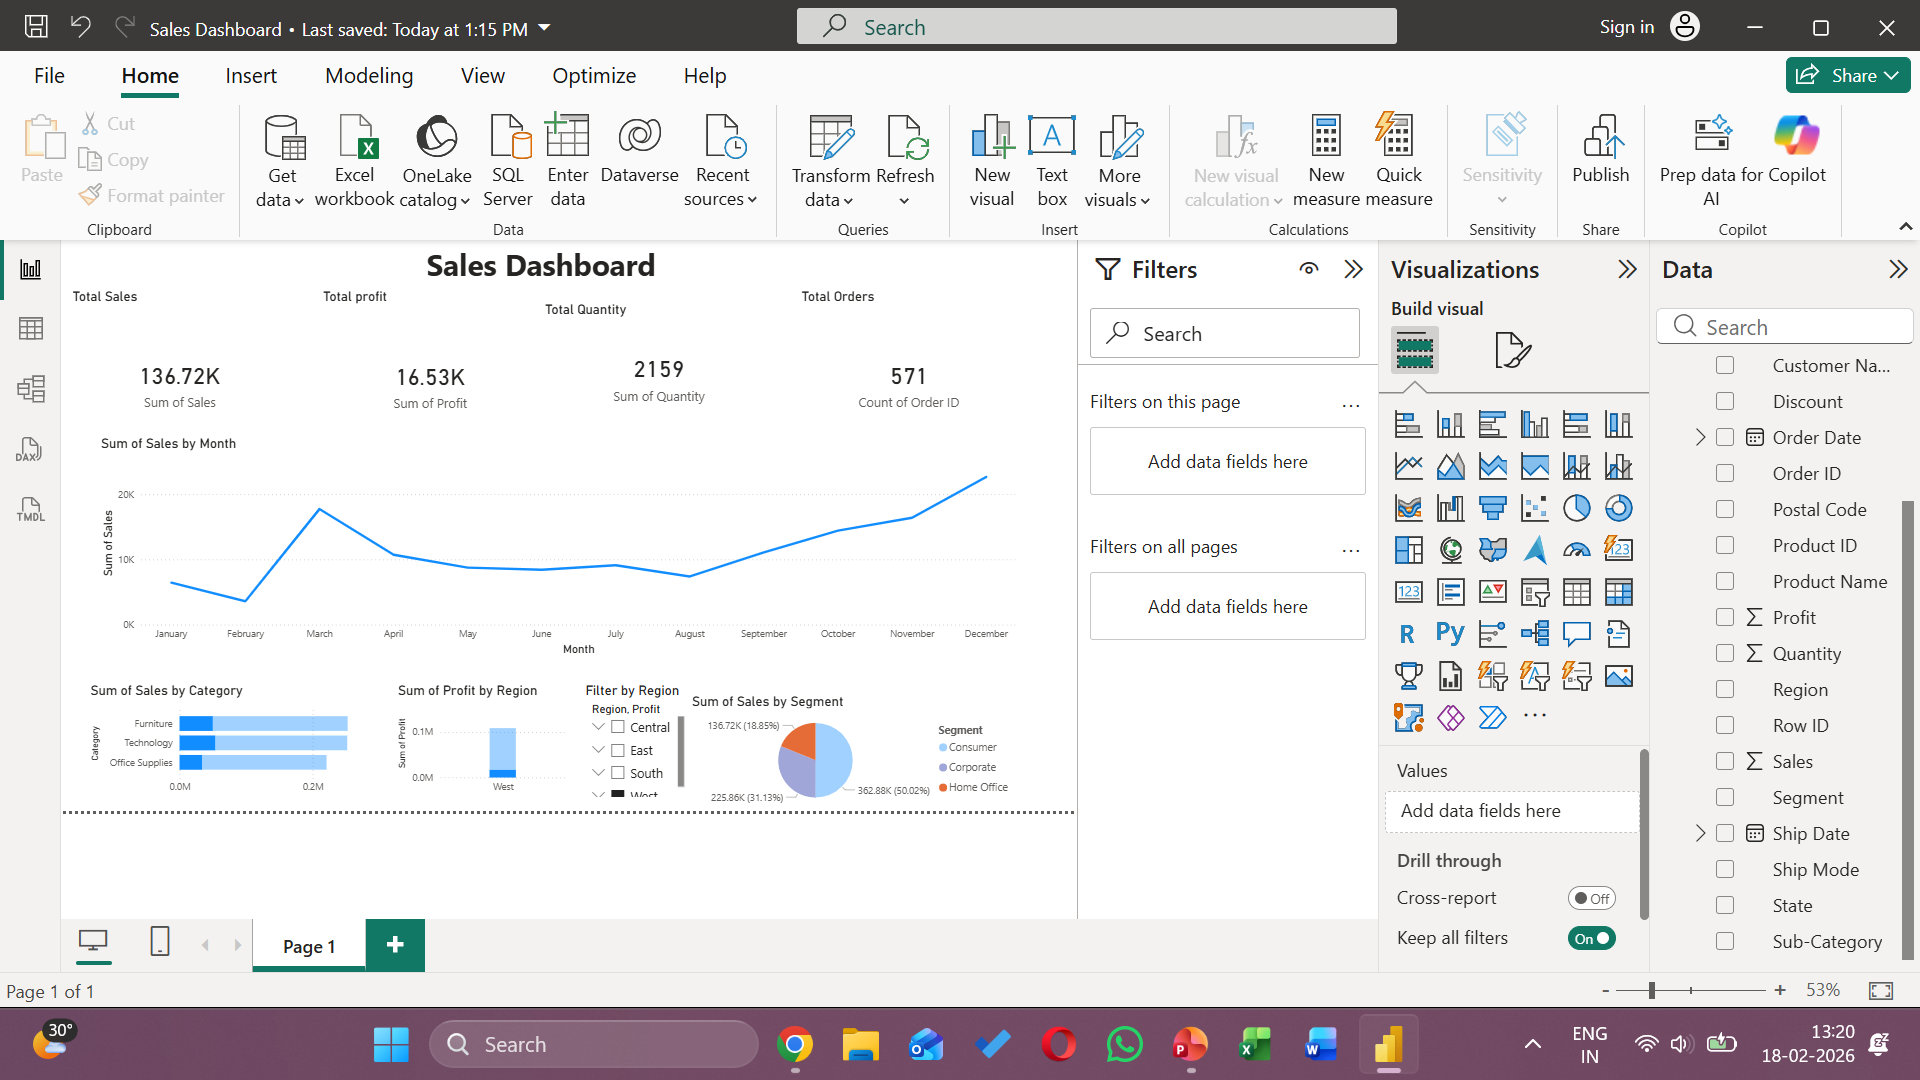

This screenshot's page, from the dashboard's own definition file:
{"tool":"powerbi","page":{"name":"Page 1","canvas":[1280,720],"ordinal":0},"visuals":[{"type":"card","title":"Total Sales ","fields":{"Values":["Sum(Sample - Superstore.Sales)"]},"box":[9.4,60.5,279.7,219.2],"z":0},{"type":"card","title":"Total profit ","fields":{"Values":["Sum(Sample - Superstore.Profit)"]},"box":[325,60.5,279.7,221.1],"z":1000},{"type":"card","title":"Total Quantity","fields":{"Values":["Sum(Sample - Superstore.Quantity)"]},"box":[604.7,77.5,296.7,168.2],"z":2000},{"type":"card","title":"Total Orders","fields":{"Values":["CountNonNull(Sample - Superstore.Order ID)"]},"box":[927.9,60.5,279.7,219.2],"z":3000},{"type":"lineChart","fields":{"Category":["Sample - Superstore.Order Date.Variation.Date Hierarchy.Year","Sample - Superstore.Order Date.Variation.Date Hierarchy.Month"],"Y":["Sum(Sample - Superstore.Sales)"]},"box":[45.4,245.7,1162.2,281.6],"z":4000},{"type":"clusteredBarChart","fields":{"Category":["Sample - Superstore.Category"],"Y":["Sum(Sample - Superstore.Sales)"]},"box":[32.1,557.5,387.4,149.3],"z":5000},{"type":"slicer","title":"Filter by Region","fields":{"Values":["Sample - Superstore.Region","Sample - Superstore.Profit"]},"box":[655.8,557.5,134.2,149.3],"z":6000},{"type":"pieChart","fields":{"Category":["Sample - Superstore.Segment"],"Y":["Sum(Sample - Superstore.Sales)"]},"box":[789.9,570.7,417.6,149.3],"z":7000},{"type":"textbox","box":[455.4,0,300.5,77.5],"z":8000},{"type":"clusteredColumnChart","fields":{"Y":["Sum(Sample - Superstore.Profit)"],"Category":["Sample - Superstore.Region"]},"box":[419.5,557.5,221.1,149.3],"z":8001}]}

Visuals, with their boxes on the page's 1280x720 design canvas (x1, y1, x2, y2). These are canvas units, not pixel positions in the 1920x1080 screenshot, which may show the page scaled, cropped or inside an application window:
"Total Sales " card: pyautogui.locateOnScreen(9, 60, 289, 280)
"Total profit " card: pyautogui.locateOnScreen(325, 60, 605, 282)
"Total Quantity" card: pyautogui.locateOnScreen(605, 78, 901, 246)
"Total Orders" card: pyautogui.locateOnScreen(928, 60, 1208, 280)
lineChart - Sample - Superstore.Order Date.Variation.Date Hierarchy.Year x Sample - Superstore.Order Date.Variation.Date Hierarchy.Month: pyautogui.locateOnScreen(45, 246, 1208, 527)
clusteredBarChart - Sample - Superstore.Category x Sum(Sample - Superstore.Sales): pyautogui.locateOnScreen(32, 558, 420, 707)
"Filter by Region" slicer: pyautogui.locateOnScreen(656, 558, 790, 707)
pieChart - Sample - Superstore.Segment x Sum(Sample - Superstore.Sales): pyautogui.locateOnScreen(790, 571, 1208, 720)
textbox: pyautogui.locateOnScreen(455, 0, 756, 78)
clusteredColumnChart - Sum(Sample - Superstore.Profit) x Sample - Superstore.Region: pyautogui.locateOnScreen(420, 558, 641, 707)
